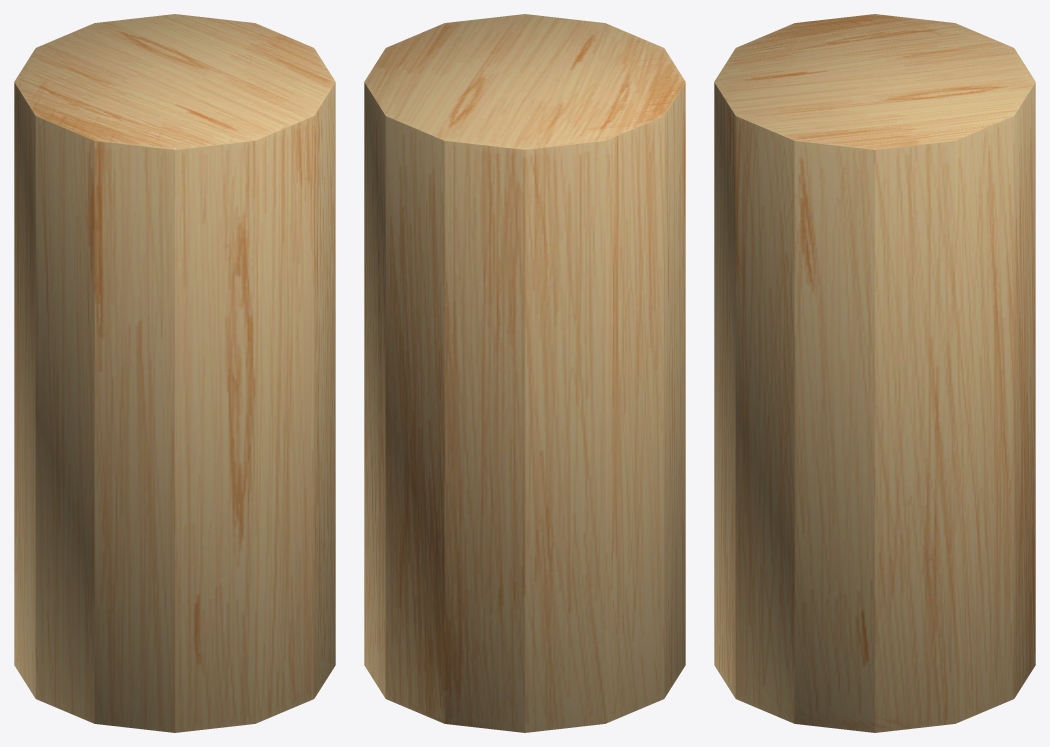
Rendered from CylinderBlock_Wood.fbx.
3 renders of one model, left to right at view 1: azimuth 30°, elevation 25°; view 2: azimuth 150°, elevation 25°; view 3: azimuth 270°, elevation 25°, orthographic.
Visible parts, largest first — view 1: Cylinder.017; view 2: Cylinder.017; view 3: Cylinder.017.
Boxes of the visible parts, box(x1,y1,x2,y2) form: Cylinder.017: box(14, 14, 335, 732); Cylinder.017: box(364, 14, 685, 732); Cylinder.017: box(714, 14, 1035, 732).
Size of the model in its own units: 100 by 200 by 100.
